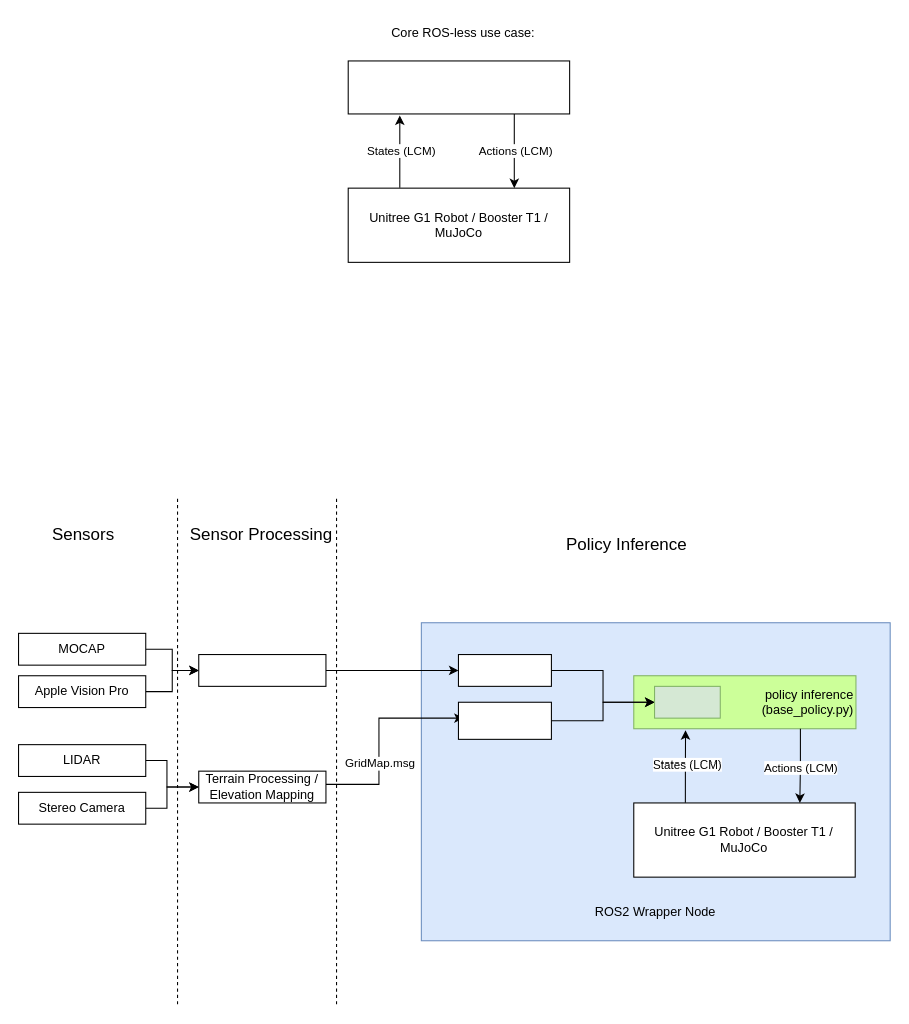
Image size: 909x1024. Some labels were removed from this diagram. Here are the shapes that lost their labels. From the top down, the centre of each, then its label:
point 458,87: policy process
point 262,669: Motion Retargeting
point 504,669: Reference Motion Subscriber
point 504,720: Elevation Map Subscriber
point 686,701: self.elevation_map self.motion_input
